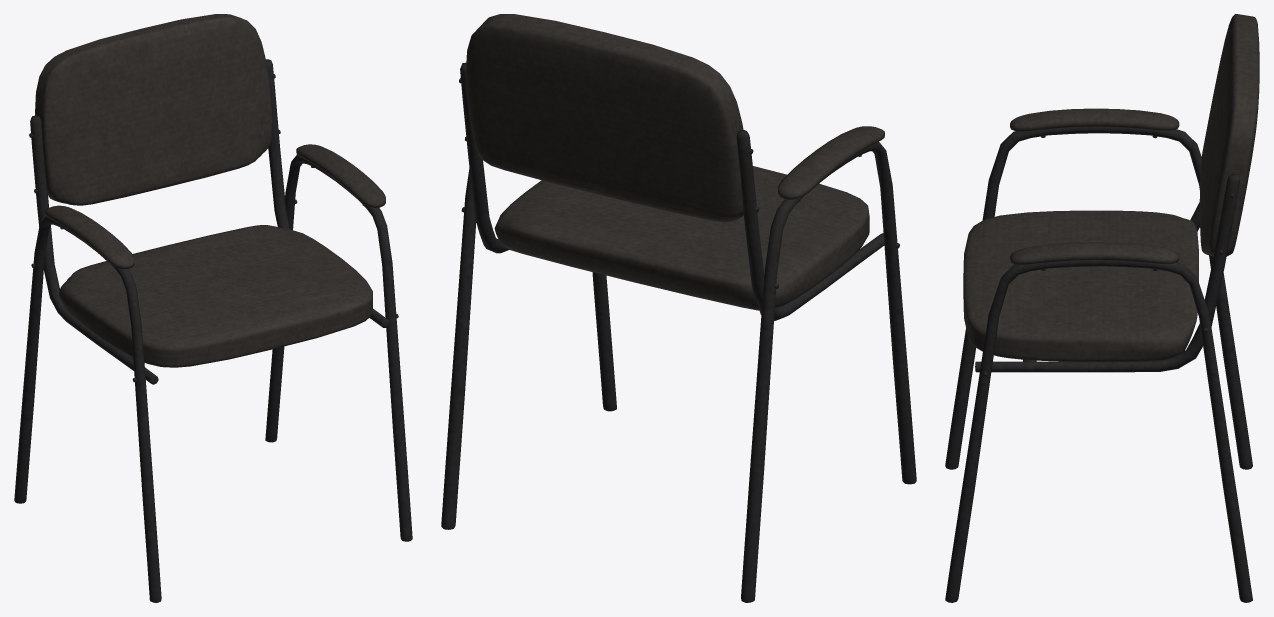
The model's file is chair_3.obj.
3 renders of one model, left to right at view 1: azimuth 30°, elevation 25°; view 2: azimuth 150°, elevation 25°; view 3: azimuth 270°, elevation 25°, orthographic. The views are drawn at different scales.
Parts seen in each view (by area): view 1: chair_3; view 2: chair_3; view 3: chair_3.
Boxes of the visible parts, x1,y1,x2,y2 form: chair_3: [14, 14, 412, 602]; chair_3: [441, 14, 916, 602]; chair_3: [945, 14, 1259, 602].
Size of the model in its own units: 0.7744 by 1.19 by 0.7036.
